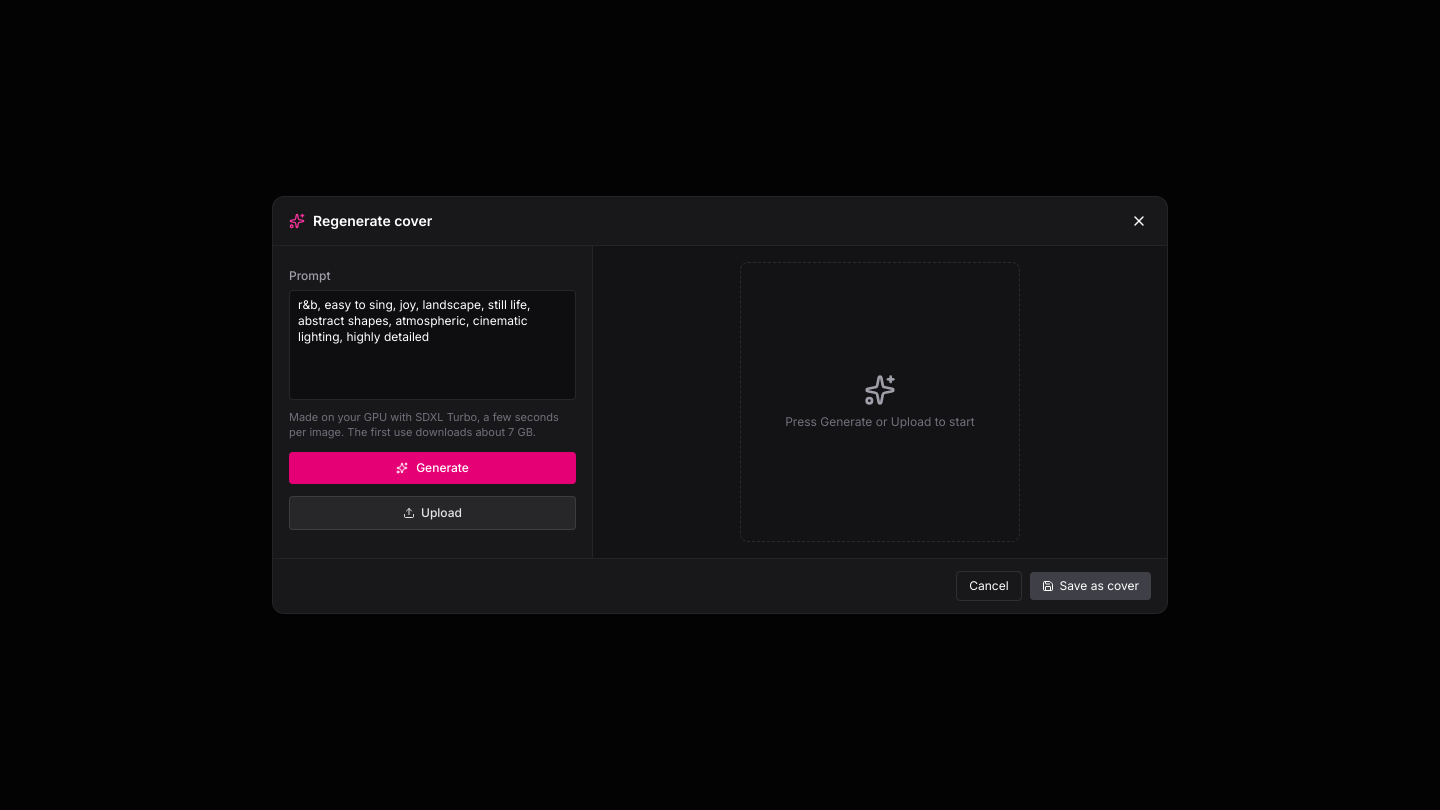
Test: CoverRegenModal (local AI cover) › shows a clear message when one generation fails
Click the button "Generate" at (432, 468), box [289,452,576,484]
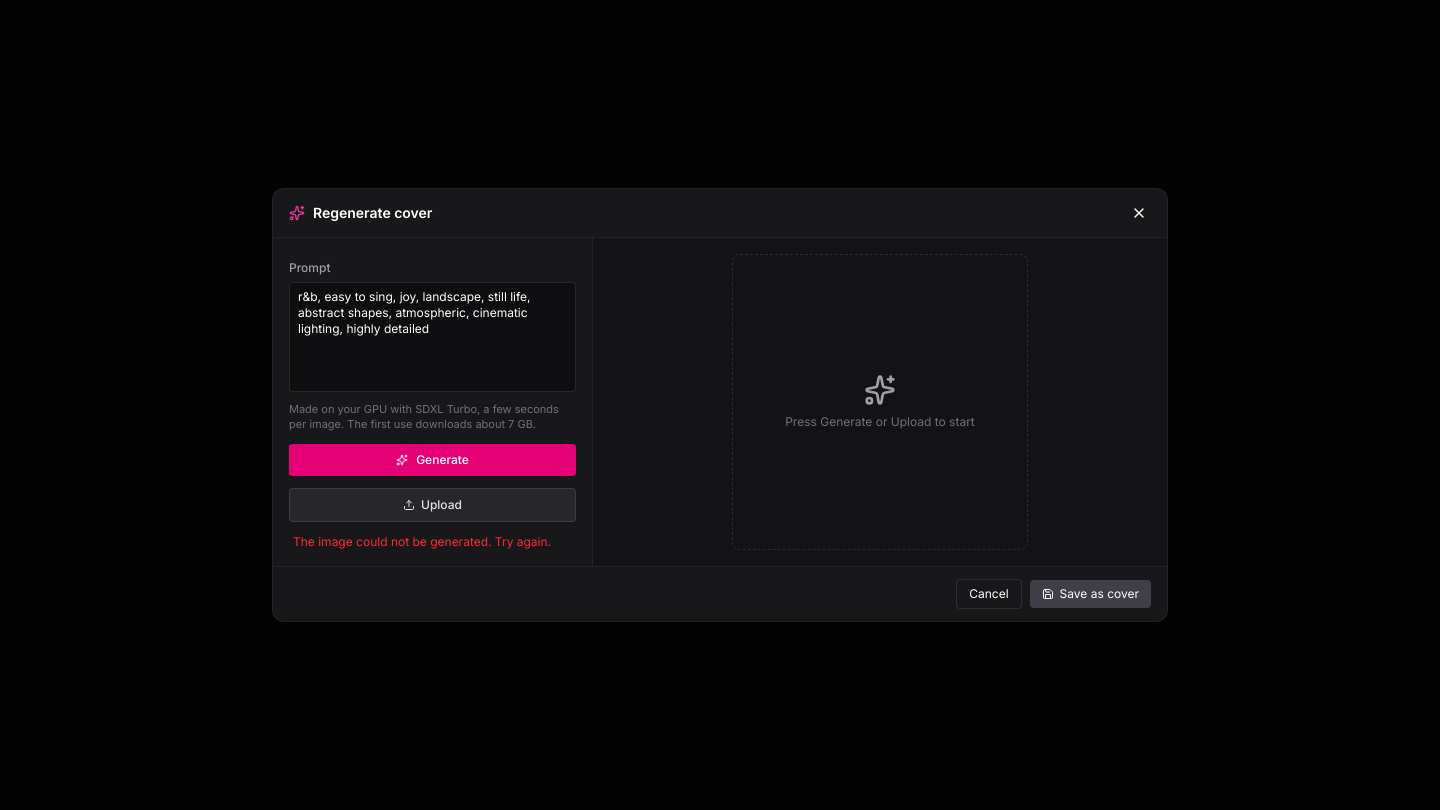
Now the text "The image could not be generated. Try again." is shown, box [289,534,576,550]
